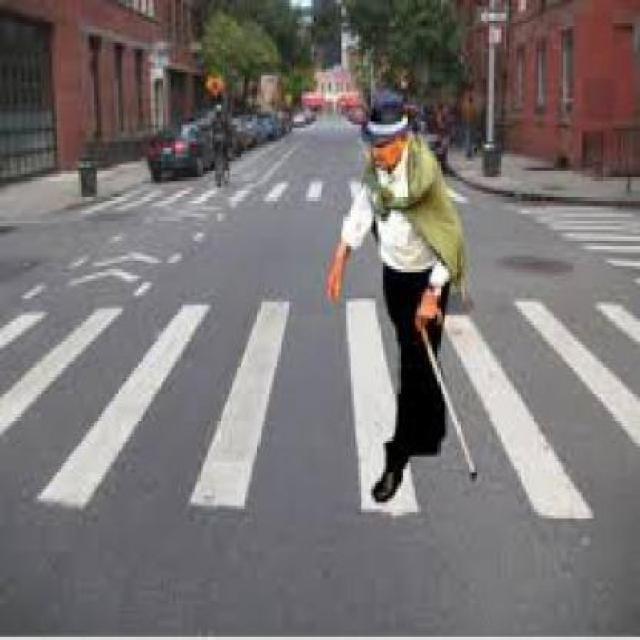Person: (326, 96, 480, 501)
